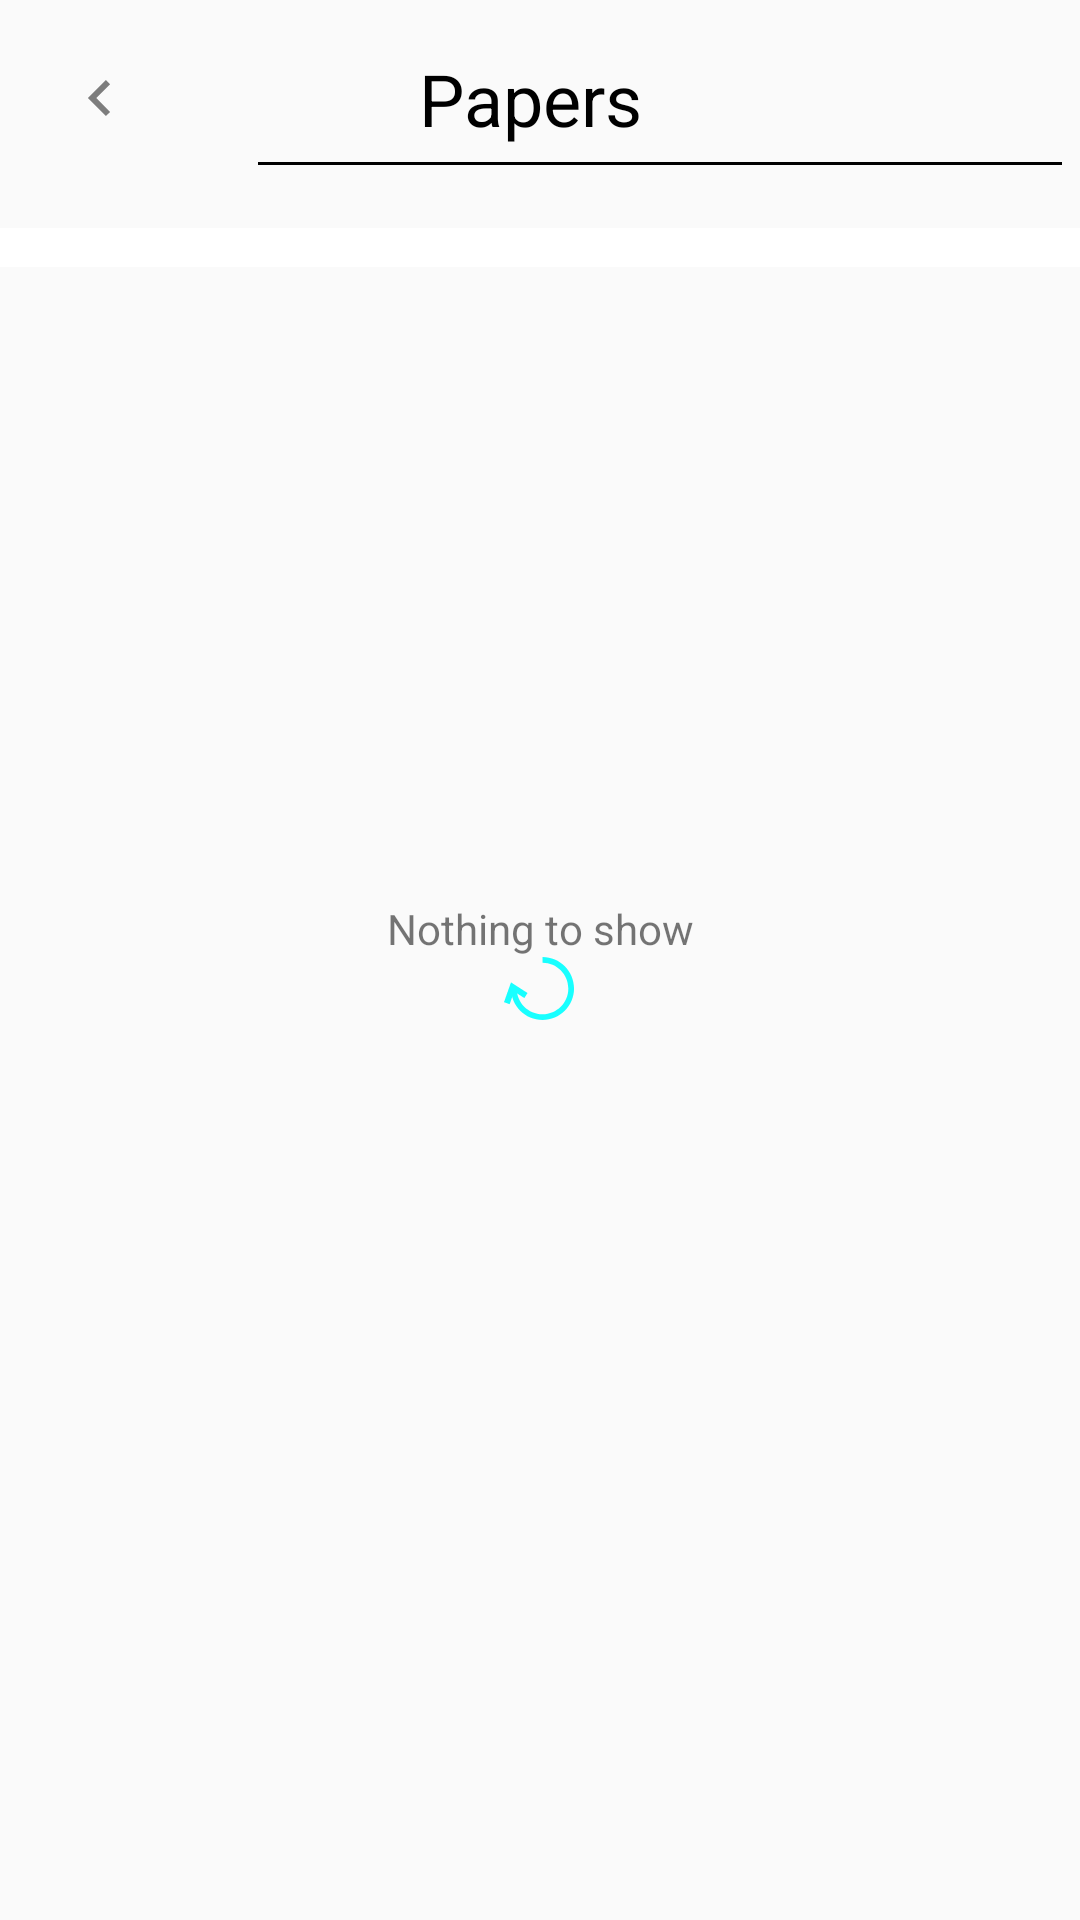

Where to tap for icons on this 1080×1920 app screen, as [x,y]:
backward arrow: [99,98]
progress indicators circular: [539,988]
